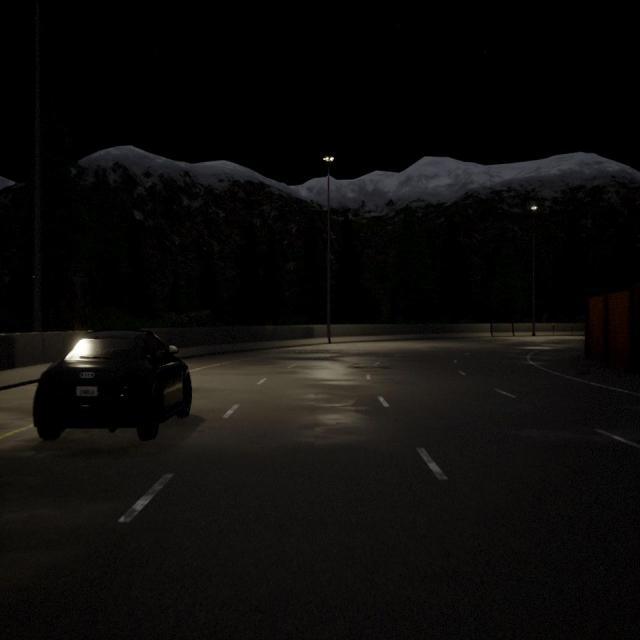Vehicle: (33, 327, 192, 443)
